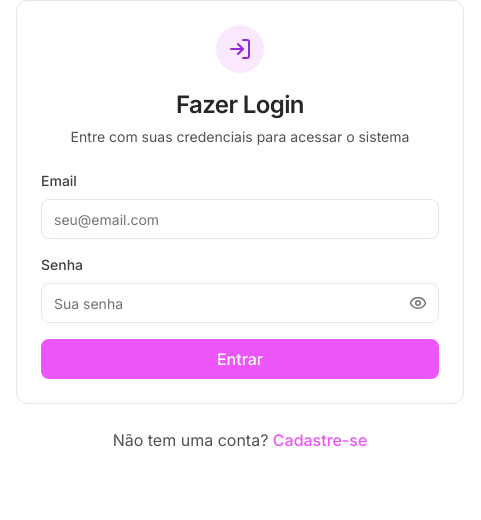
it: Authentication Flow Integration Tests › Login Flow › should validate form fields before submission
Click the button "Entrar" at (240, 359), box [41,339,439,379]
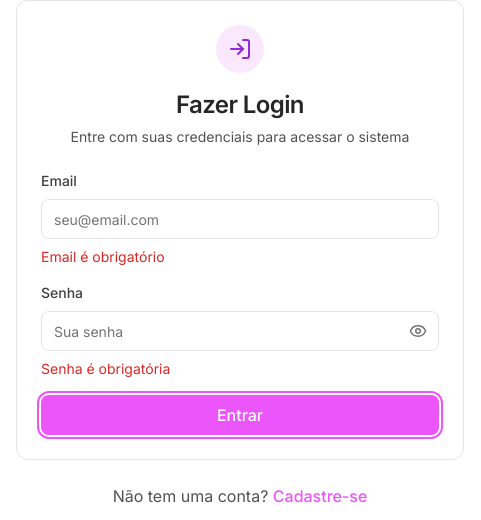
Expected: the text "Email é obrigatório" is shown, [41,248,165,265]
Expected: the text "Senha é obrigatória" is shown, [41,360,170,377]
